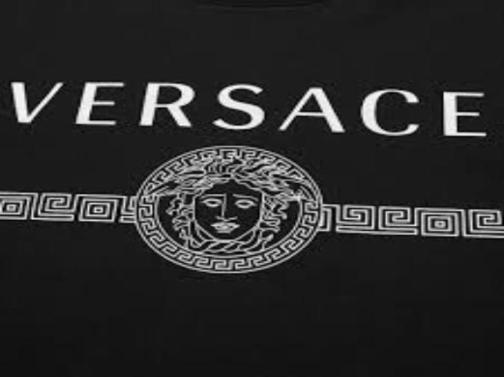VERSACE: (0, 65, 498, 280)
